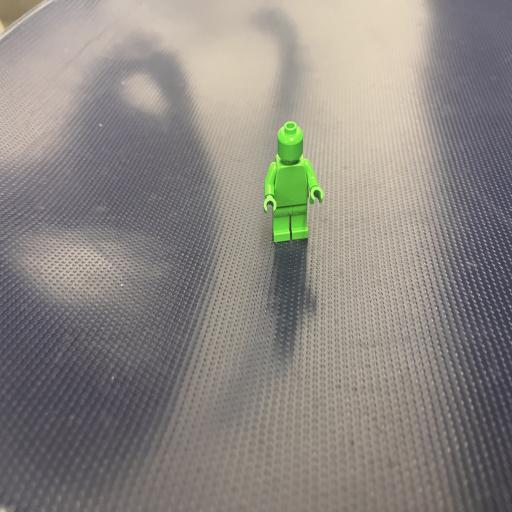Lego-Minifig: (264, 121, 323, 242)
